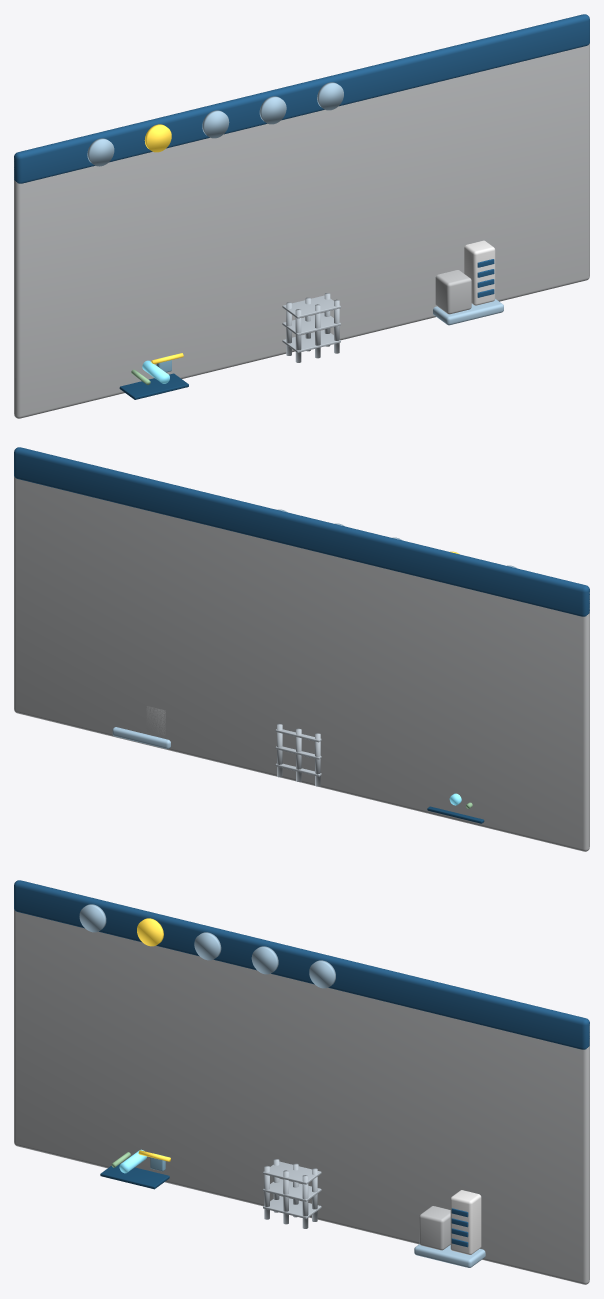
The model's file is lead-dashboard.glb.
3 views of the same model, one above another, from view 1: azimuth 30°, elevation 25°; view 2: azimuth 150°, elevation 25°; view 3: azimuth 330°, elevation 25° (orthographic).
Parts seen in each view (by area): view 1: Board, Header, ArchTower, ArchWing, MepFootprint, ArchPodium, Slab_3, IconClient, IconMep, IconArch, IconPm, IconLead (+2 smaller); view 2: Board, Header, ArchPodium; view 3: Board, Header, ArchTower, ArchWing, ArchPodium, MepFootprint, Slab_3, IconMep, IconClient, IconPm, IconArch, IconLead (+2 smaller).
Part boxes in pixels (x1,y1,x2,y2): Board: (14, 43, 589, 418); Header: (14, 14, 589, 183); ArchTower: (464, 240, 495, 305); ArchWing: (435, 270, 471, 314); MepFootprint: (119, 373, 188, 399); ArchPodium: (433, 299, 503, 325); Slab_3: (282, 295, 340, 318); IconClient: (87, 138, 114, 166); IconMep: (259, 96, 286, 124); IconArch: (317, 82, 343, 110); IconPm: (202, 110, 229, 138); IconLead: (144, 124, 171, 152); Board: (14, 476, 589, 851); Header: (14, 447, 589, 616); ArchPodium: (112, 727, 170, 748); Board: (14, 909, 589, 1284); Header: (14, 880, 589, 1049); ArchTower: (450, 1190, 481, 1254); ArchWing: (419, 1206, 450, 1250); ArchPodium: (414, 1244, 485, 1267); MepFootprint: (100, 1164, 169, 1189); Slab_3: (263, 1161, 321, 1184); IconMep: (251, 946, 278, 974); IconClient: (79, 904, 106, 932); IconPm: (194, 932, 221, 960); IconArch: (309, 960, 335, 988); IconLead: (137, 918, 163, 946).
Bounding box in the file's own units: 4.2 × 1.86 × 0.32.
